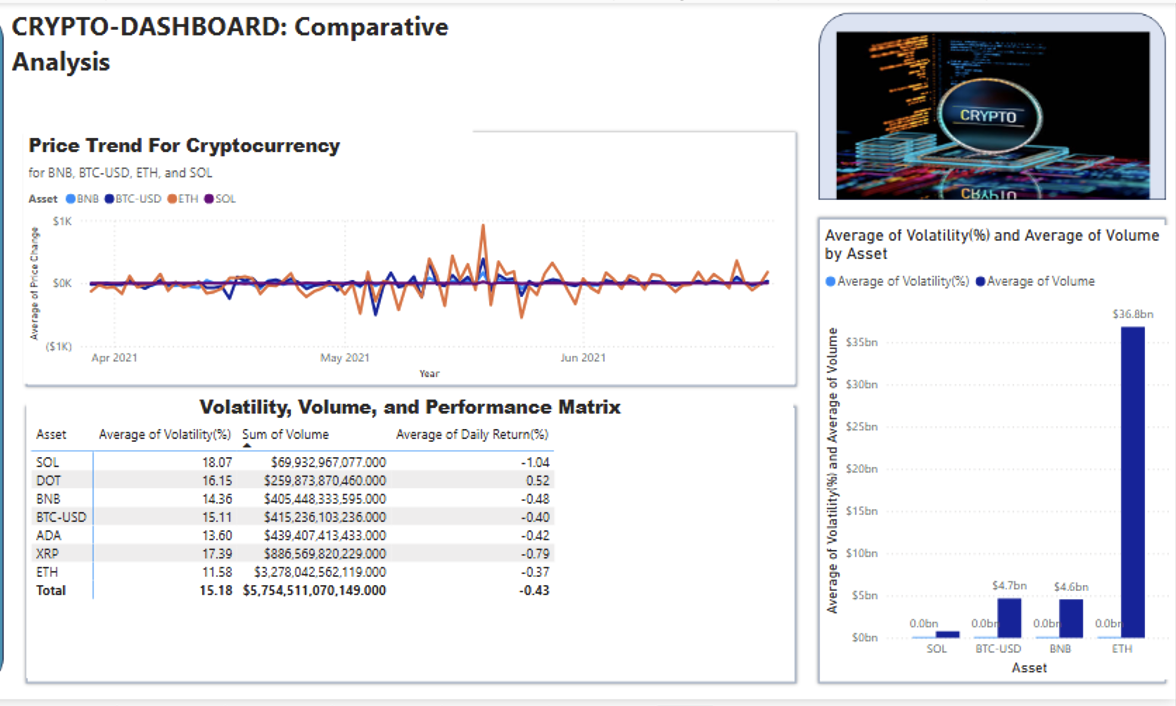

Layout of this report page (visuals, bound fields, positions):
{"tool":"powerbi","page":{"name":"Page 3","canvas":[1280,720],"ordinal":2},"visuals":[{"type":"lineChart","title":"Price Trend For Cryptocurrency","fields":{"Y":["Avg(Sheet1.Price Change)"],"Category":["DateTable.DATE.Variation.Date Hierarchy.Year","DateTable.DATE.Variation.Date Hierarchy.Quarter","DateTable.DATE.Variation.Date Hierarchy.Month","DateTable.DATE.Variation.Date Hierarchy.Day"],"Series":["Sheet1.Asset"]},"box":[88.7,134.5,798.2,260.1],"z":0},{"type":"clusteredColumnChart","fields":{"Y":["Avg(Sheet1.Volatility(%))","Avg(Sheet1.Volume)"],"Category":["Sheet1.Asset"]},"box":[911.4,229.3,368.6,470.2],"z":1000},{"type":"pivotTable","title":"Volatility, Volume, and Performance Matrix","fields":{"Rows":["Sheet1.Asset"],"Values":["Avg(Sheet1.Volatility(%))","Sum(Sheet1.Volume)","Avg(Sheet1.Daily Return(%))"]},"box":[91,404.1,793.4,294.1],"z":2000},{"type":"textbox","box":[70.9,0,481.8,134.5],"z":3000}]}

Visuals, with their boxes on the page's 1280x720 design canvas (x1, y1, x2, y2). These are canvas units, not pixel positions in the 1176x706 screenshot, which may show the page scaled, cropped or inside an application window:
"Price Trend For Cryptocurrency" lineChart: left=89, top=134, right=887, bottom=395
clusteredColumnChart - Avg(Sheet1.Volatility(%)) x Avg(Sheet1.Volume): left=911, top=229, right=1280, bottom=700
"Volatility, Volume, and Performance Matrix" pivotTable: left=91, top=404, right=884, bottom=698
textbox: left=71, top=0, right=553, bottom=134
